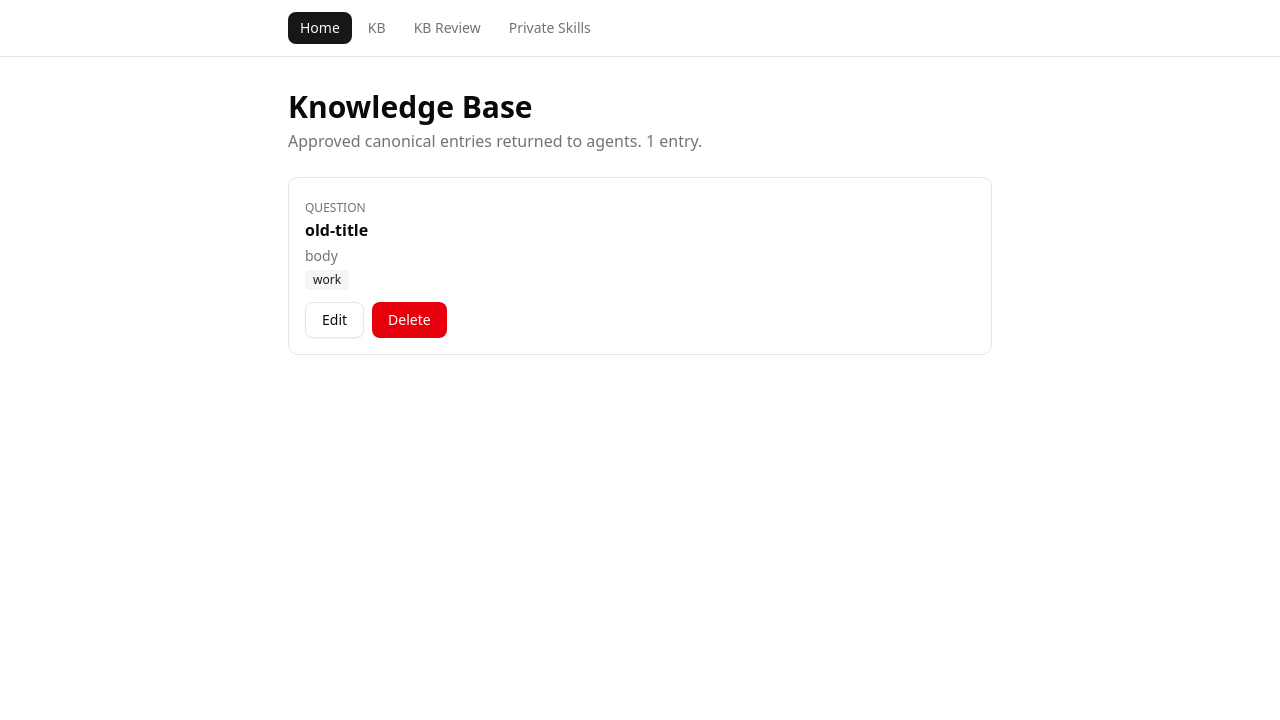
KB browse screen › reflects an approved entry's new title and scope on the card immediately after saving
Click the button "Edit". click: (335, 320)
box: [305,302,364,338]
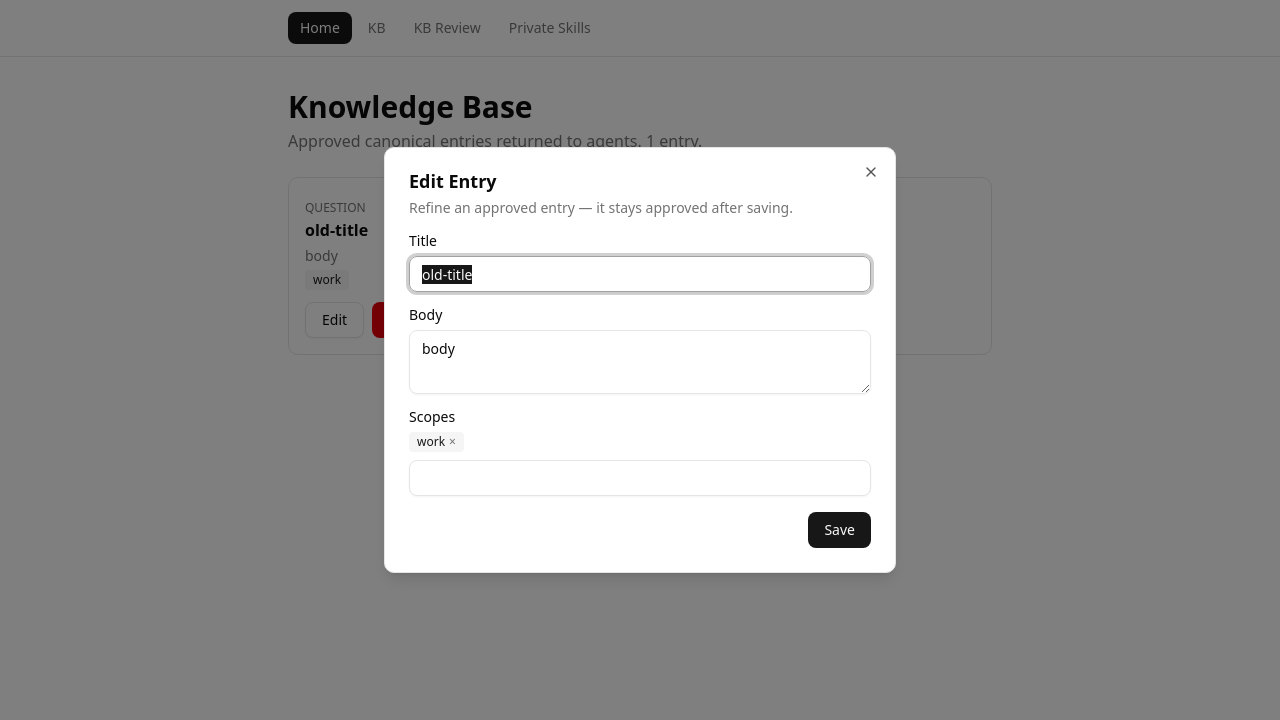
Replace the text in the field labelled "Title" with "new-title". click: (640, 274)
box: [409,256,871,292]
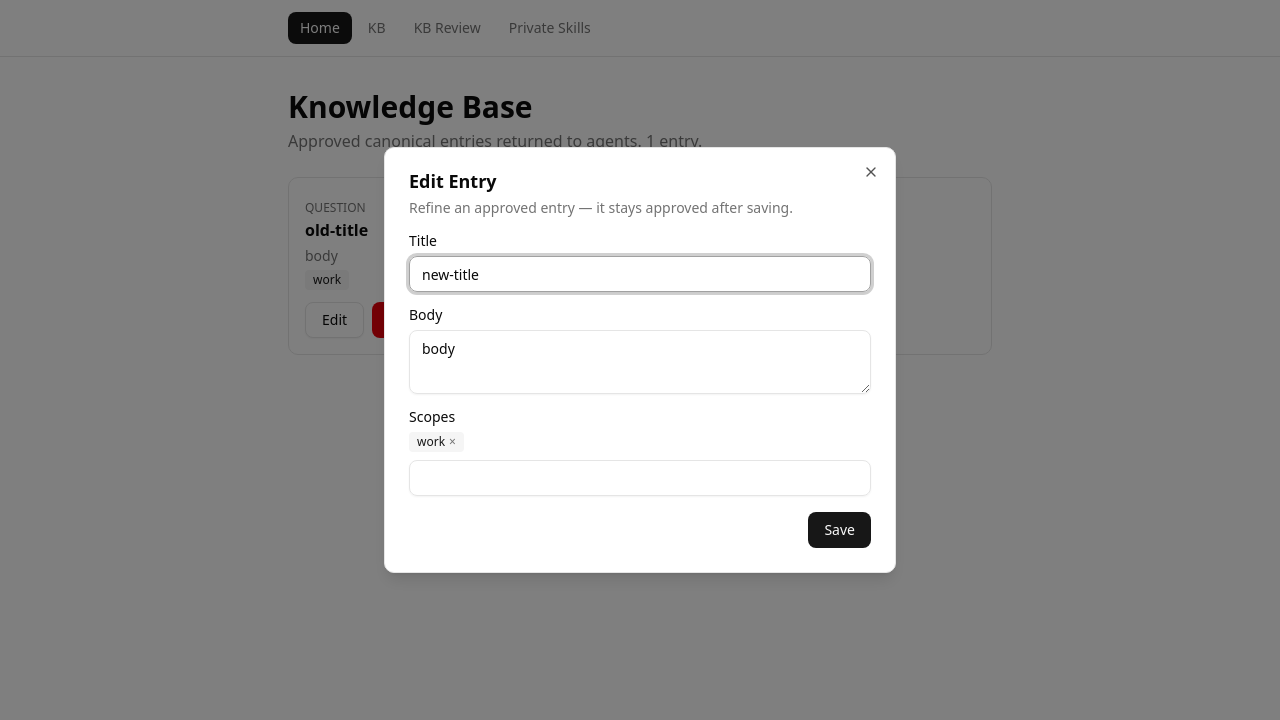
Type "client-x" into the field labelled "Scopes". click: (640, 478)
box: [409,460,871,496]
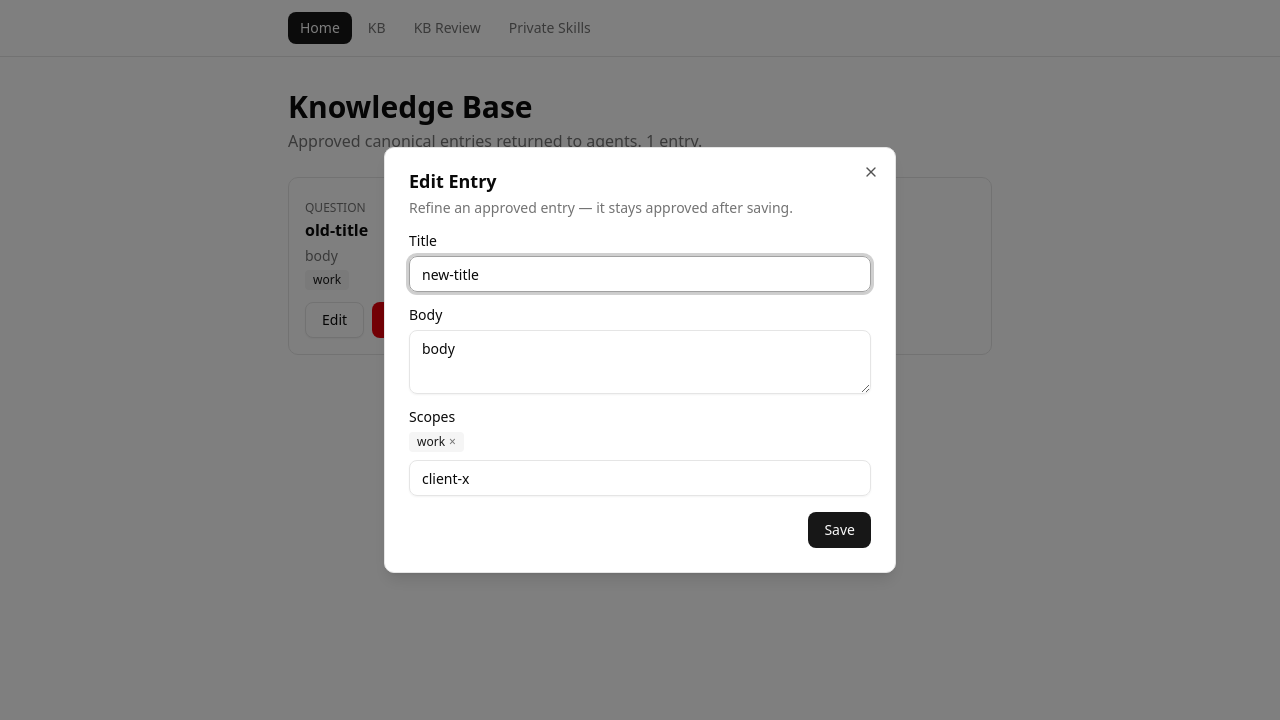
Press Enter in the field labelled "Scopes", box [409,460,871,496]
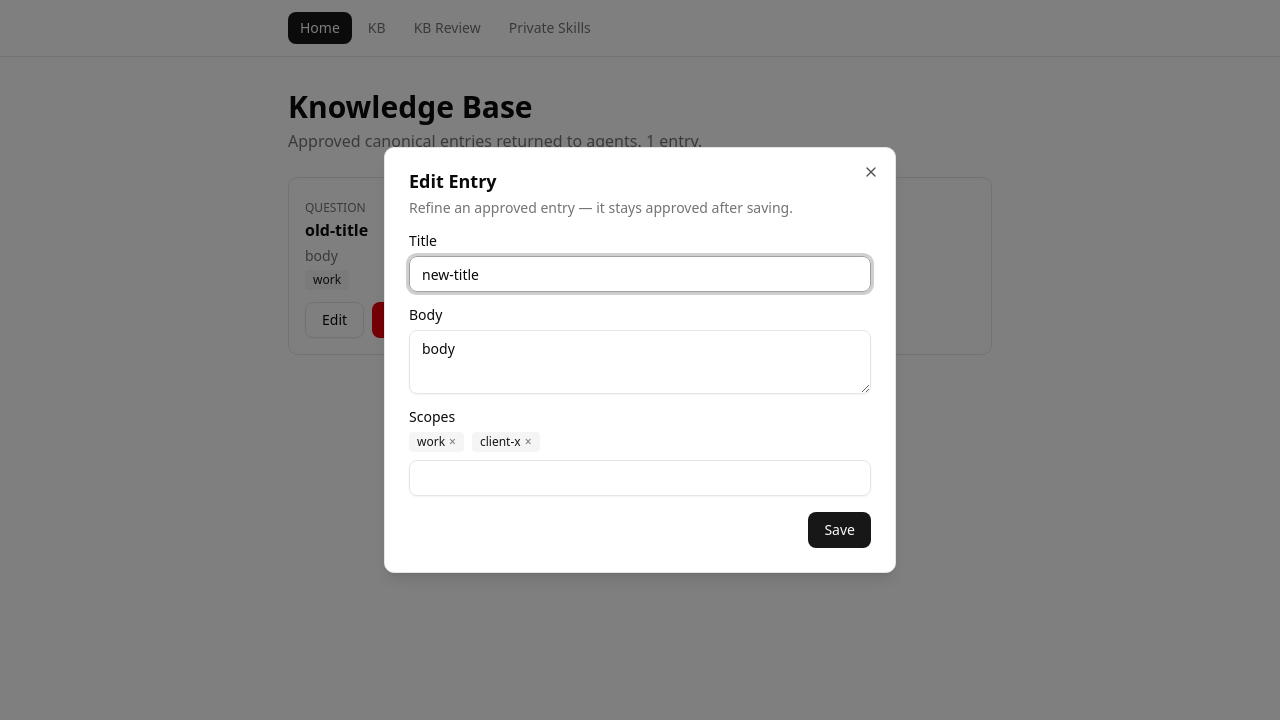
Click the button named "Remove work". click: (453, 442)
box: [449,434,456,450]
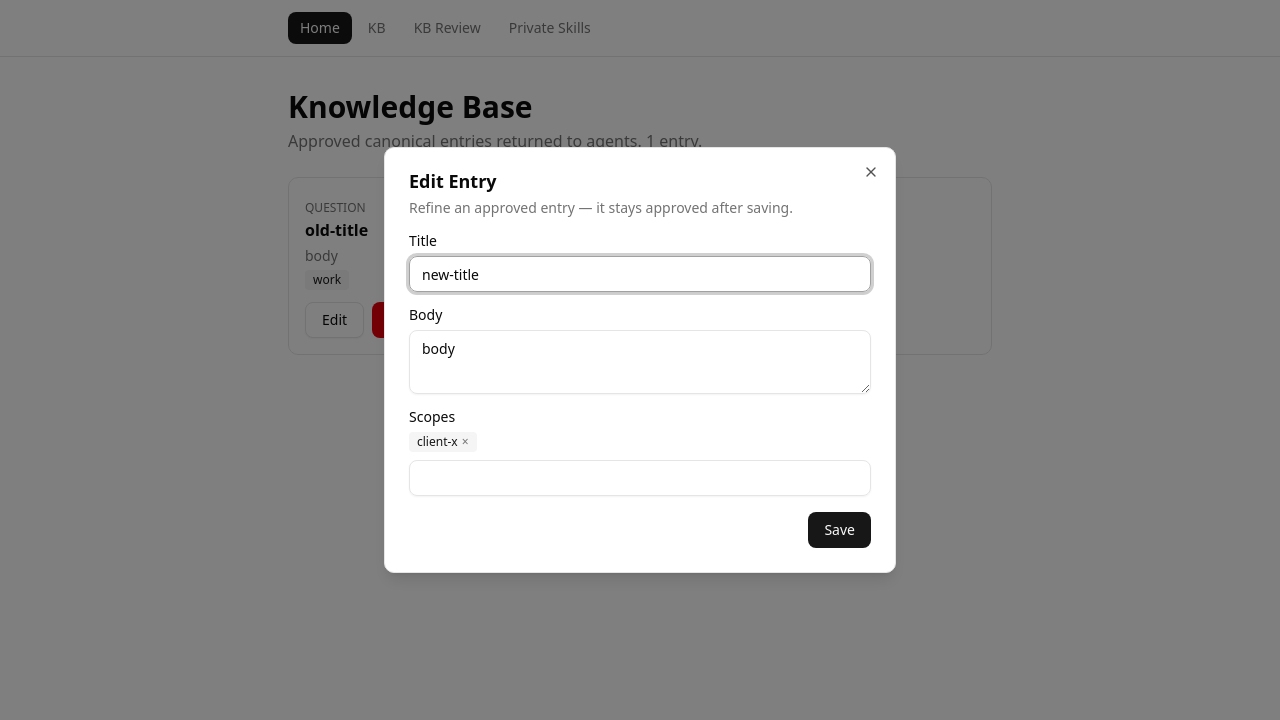
Click the button "Save". click: (840, 530)
box: [808,512,871,548]
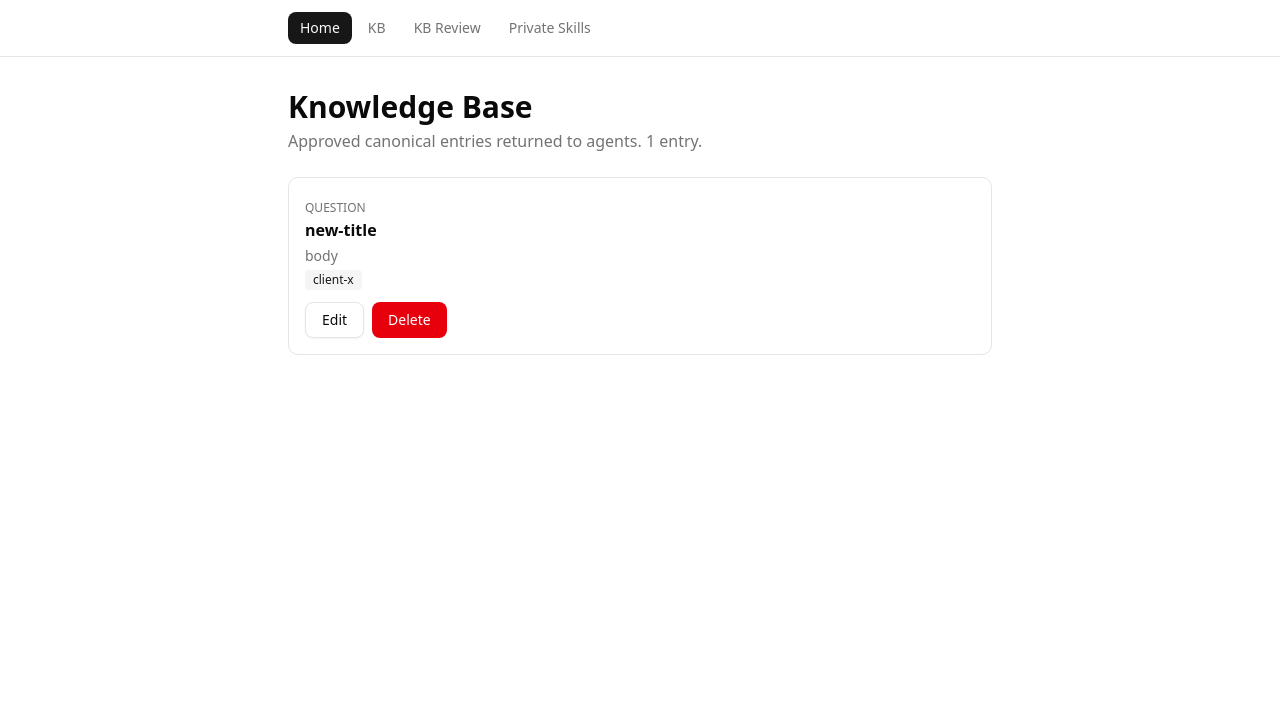
Result: the heading "new-title" is shown at [305,219,377,241]
Result: the text "client-x" is shown at [305,270,362,290]
Result: the heading "old-title" is gone
